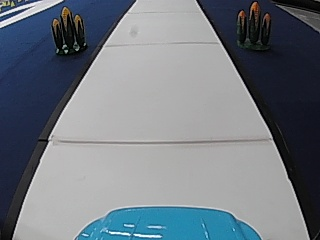corn: (49, 4, 88, 55), (234, 0, 273, 51)
